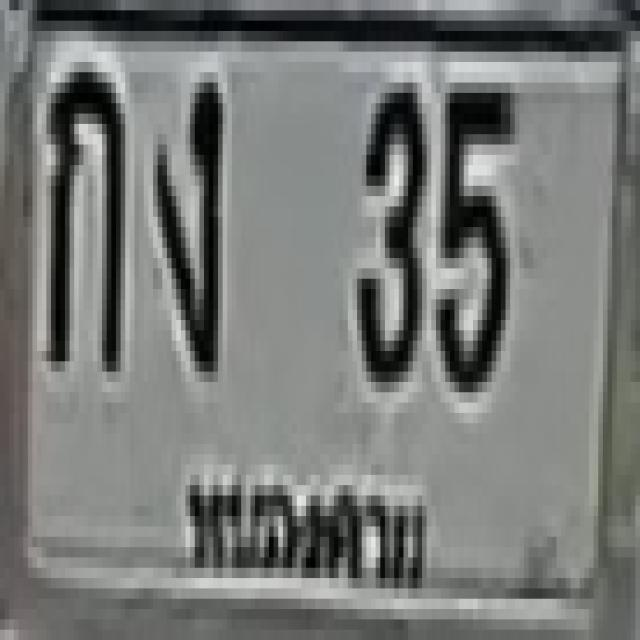3: (352, 72, 422, 382)
5: (431, 72, 510, 382)
A01: (46, 62, 120, 361)
A07: (153, 72, 218, 372)
NKI: (172, 463, 442, 607)
